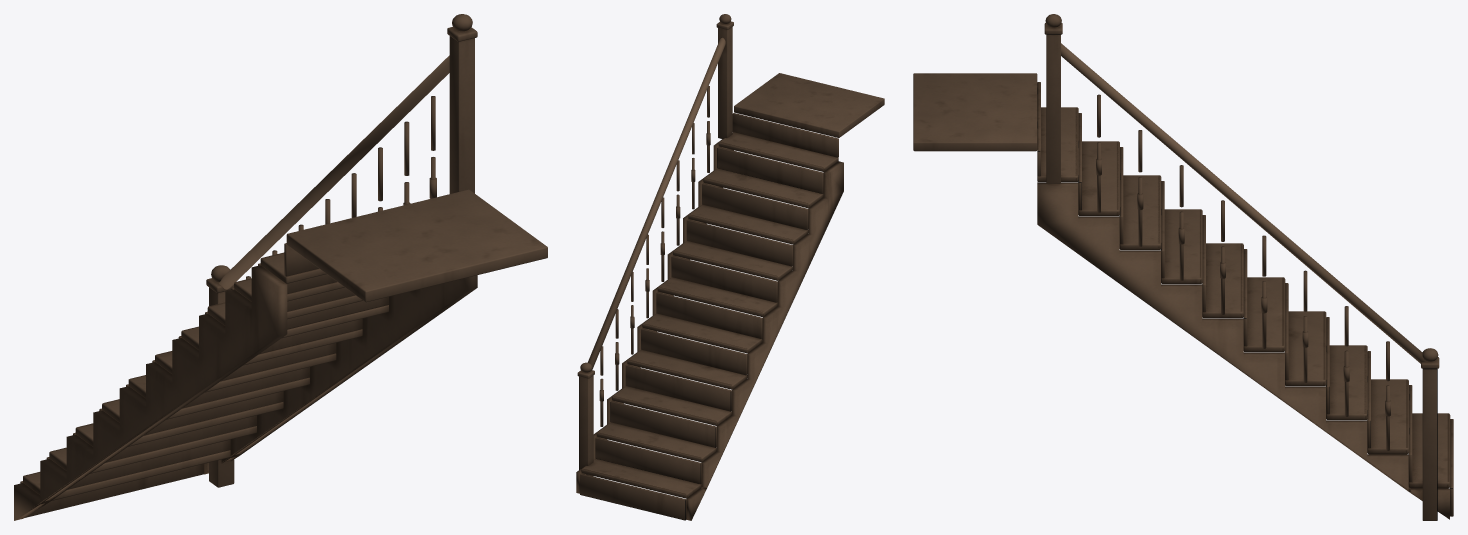
File: treppe_nr4_keller.glb
3 renders of one model, left to right at view 1: azimuth 30°, elevation 25°; view 2: azimuth 150°, elevation 25°; view 3: azimuth 270°, elevation 25°, orthographic. The views are drawn at different scales.
Parts seen in each view (by area): view 1: treppe; view 2: treppe; view 3: treppe.
Part boxes in pixels (x1,y1,x2,y2): treppe: [14, 14, 547, 520]; treppe: [576, 14, 884, 520]; treppe: [913, 14, 1453, 520].
Size of the model in its own units: 1.12 by 3.36 by 3.27.
1 material, 1 textured.
